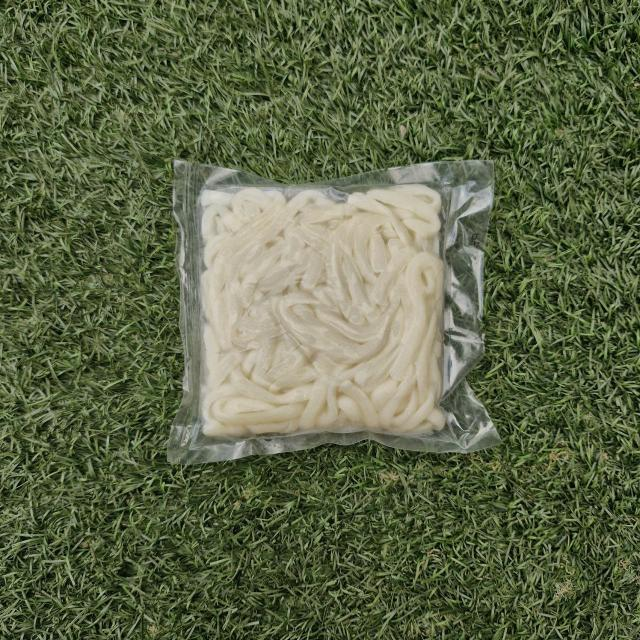food_waste: (198, 182, 442, 443)
plastic: (170, 152, 506, 462)
